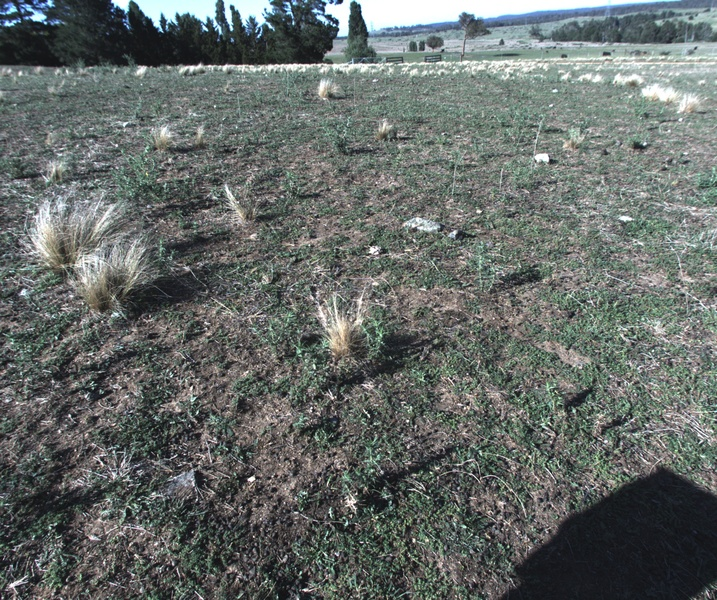st: (23, 193, 106, 273), (73, 242, 151, 314), (305, 299, 372, 363), (222, 179, 258, 232), (149, 122, 177, 151), (372, 117, 397, 148), (41, 163, 70, 188), (675, 93, 700, 116), (320, 77, 341, 101), (626, 67, 647, 90), (194, 121, 209, 150), (176, 60, 200, 78), (656, 85, 677, 105), (636, 84, 659, 101), (133, 60, 146, 83), (612, 71, 627, 88)
